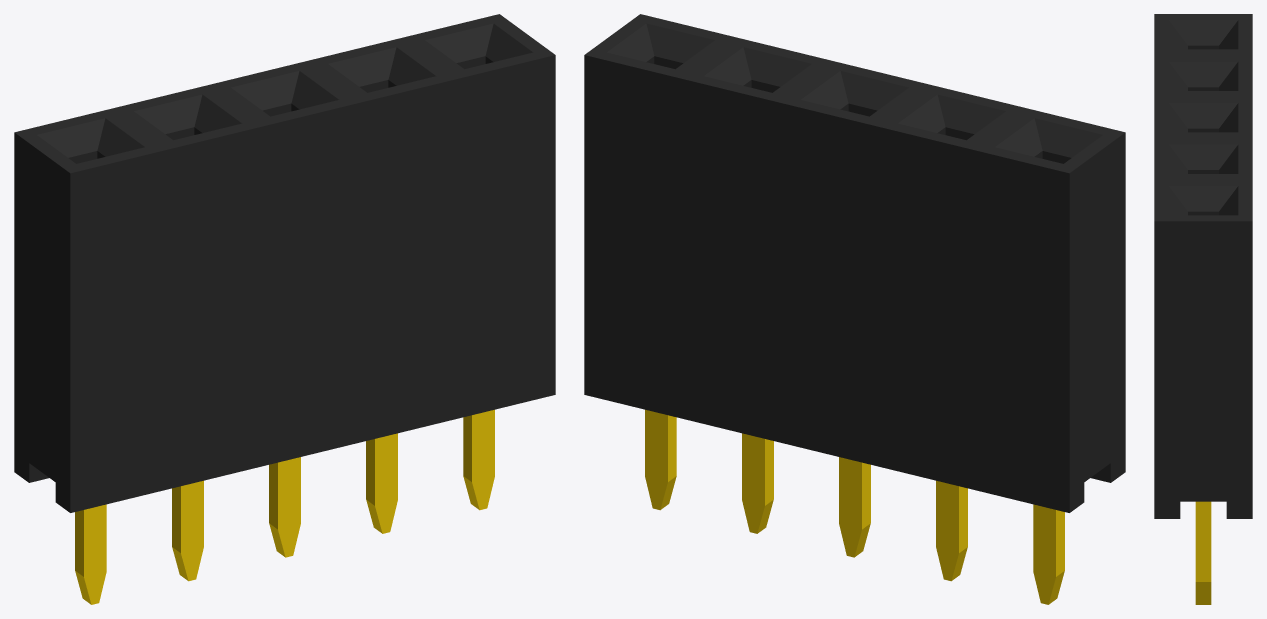
Rendered from PBS5.glb.
The picture shows the model from 3 angles, left to right: view 1: azimuth 30°, elevation 25°; view 2: azimuth 150°, elevation 25°; view 3: azimuth 270°, elevation 25°; orthographic projection. The views are drawn at different scales.
Visible parts, largest first — view 1: PBS (DS1023 CONNFLY); view 2: PBS (DS1023 CONNFLY); view 3: PBS (DS1023 CONNFLY).
Part boxes in pixels (x1,y1,x2,y2): PBS (DS1023 CONNFLY): [14, 14, 555, 604]; PBS (DS1023 CONNFLY): [584, 14, 1125, 604]; PBS (DS1023 CONNFLY): [1154, 14, 1252, 604].
Bounding box in the file's own units: 0.0127 × 0.0115 × 0.00254.
